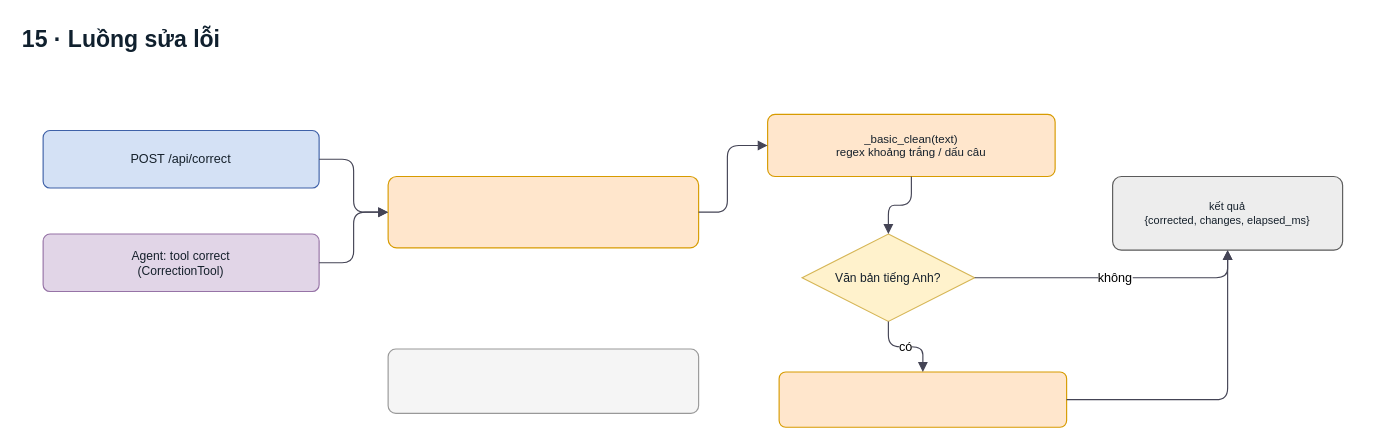
The diagram is 1373 pixels wide and 447 high, and some of its shapes have lost their labels. The centre of each missing label's shape, as x and y in pixels:
autocorrect.Speller (en): pixel 922 399
correction_service.correct(text) cổ điển · theo luật (không dùng LLM): pixel 543 211
Ghi chú: dọn dòng OCR "chế độ smart" là đường Qwen riêng (ai_rewrite_service): pixel 543 380
